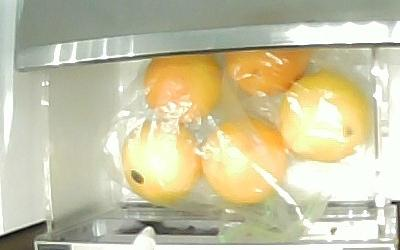grapefruit_vinyl: (278, 71, 369, 161), (198, 114, 287, 204), (119, 118, 202, 205), (142, 52, 219, 123), (223, 47, 310, 95)
